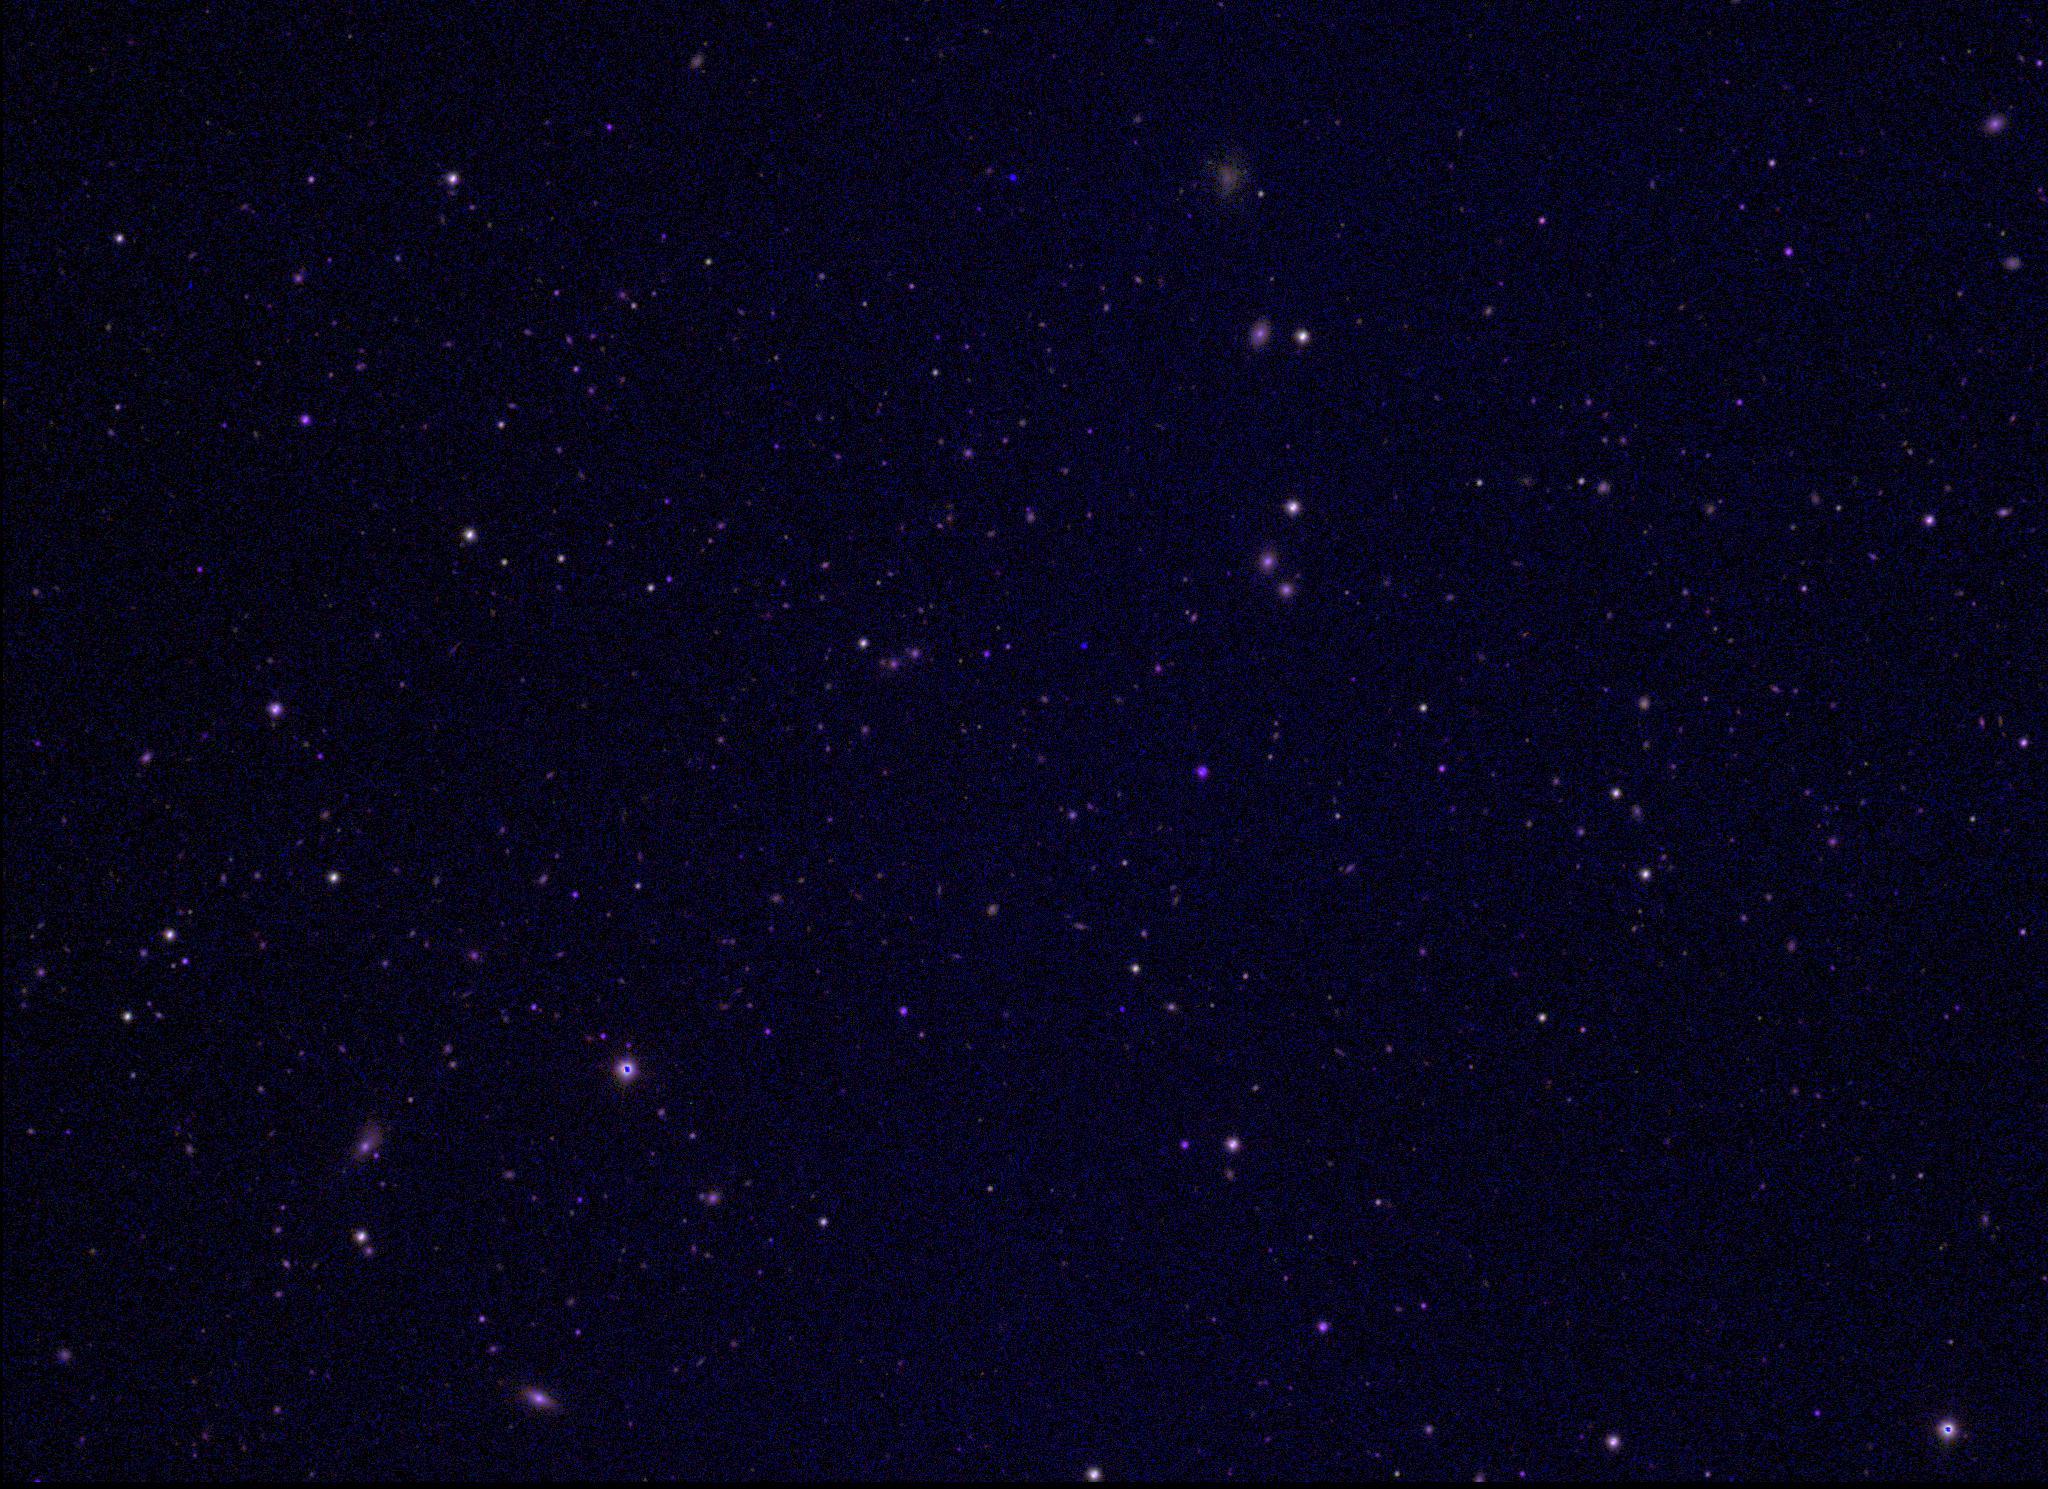L: (1076, 640, 1091, 652)
